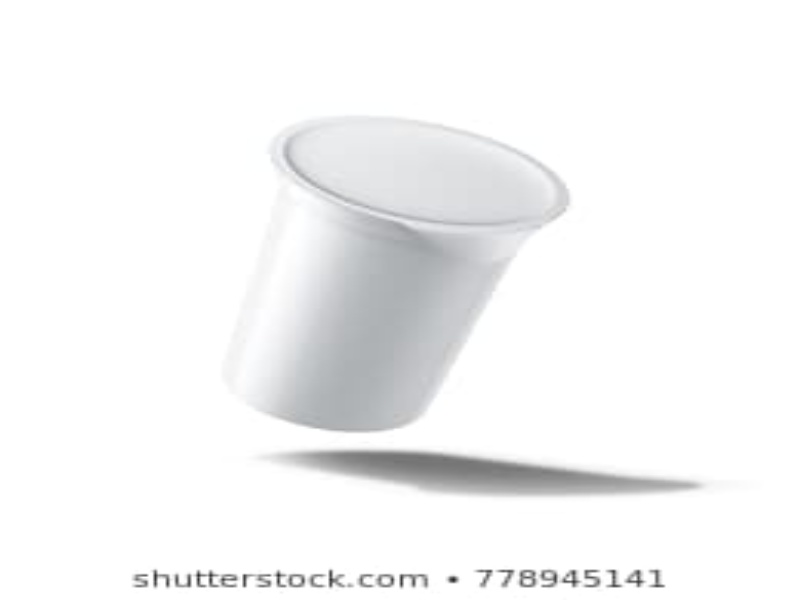plastic-cup: (223, 106, 572, 433)
